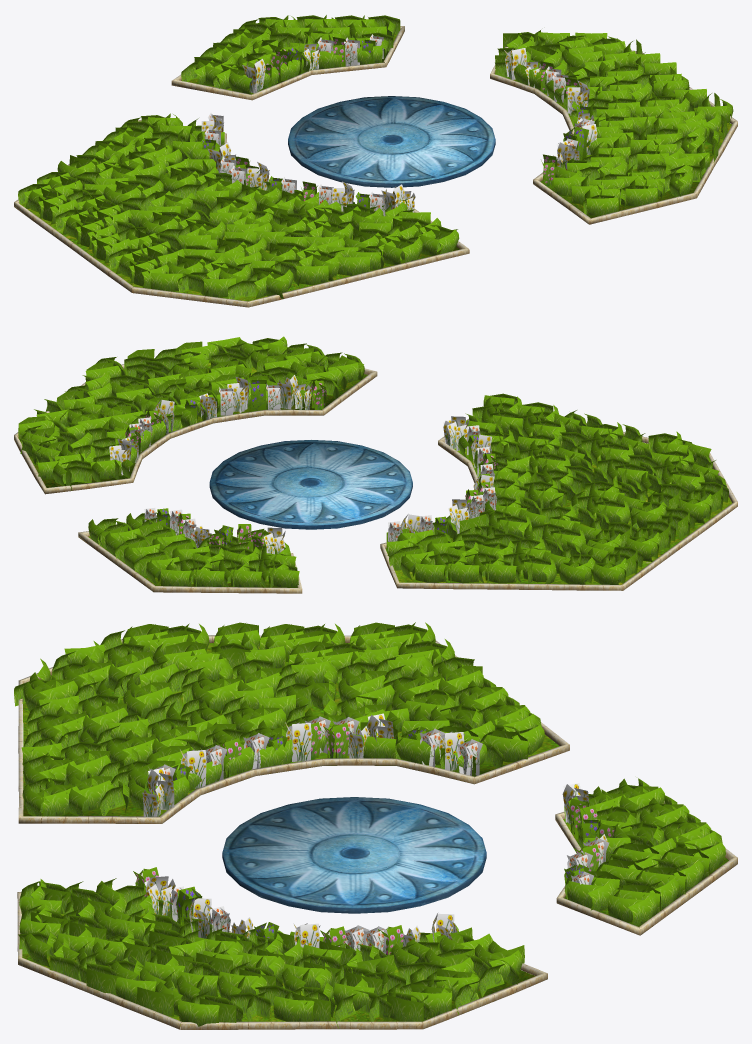
File: a_SEcenter03.glb
3 renders of one model, top to bottom at view 1: azimuth 30°, elevation 25°; view 2: azimuth 150°, elevation 25°; view 3: azimuth 270°, elevation 25°, orthographic. The views are drawn at different scales.
Parts seen in each view (by area): view 1: a_SEcenter03; view 2: a_SEcenter03; view 3: a_SEcenter03.
Part boxes in pixels (x1,y1,x2,y2): a_SEcenter03: (14,15,737,307); a_SEcenter03: (14,336,737,593); a_SEcenter03: (14,622,737,1029).
Bounding box in the file's own units: 26.42 × 1.29 × 20.74.
Materials: 5 (5 with a texture image).
